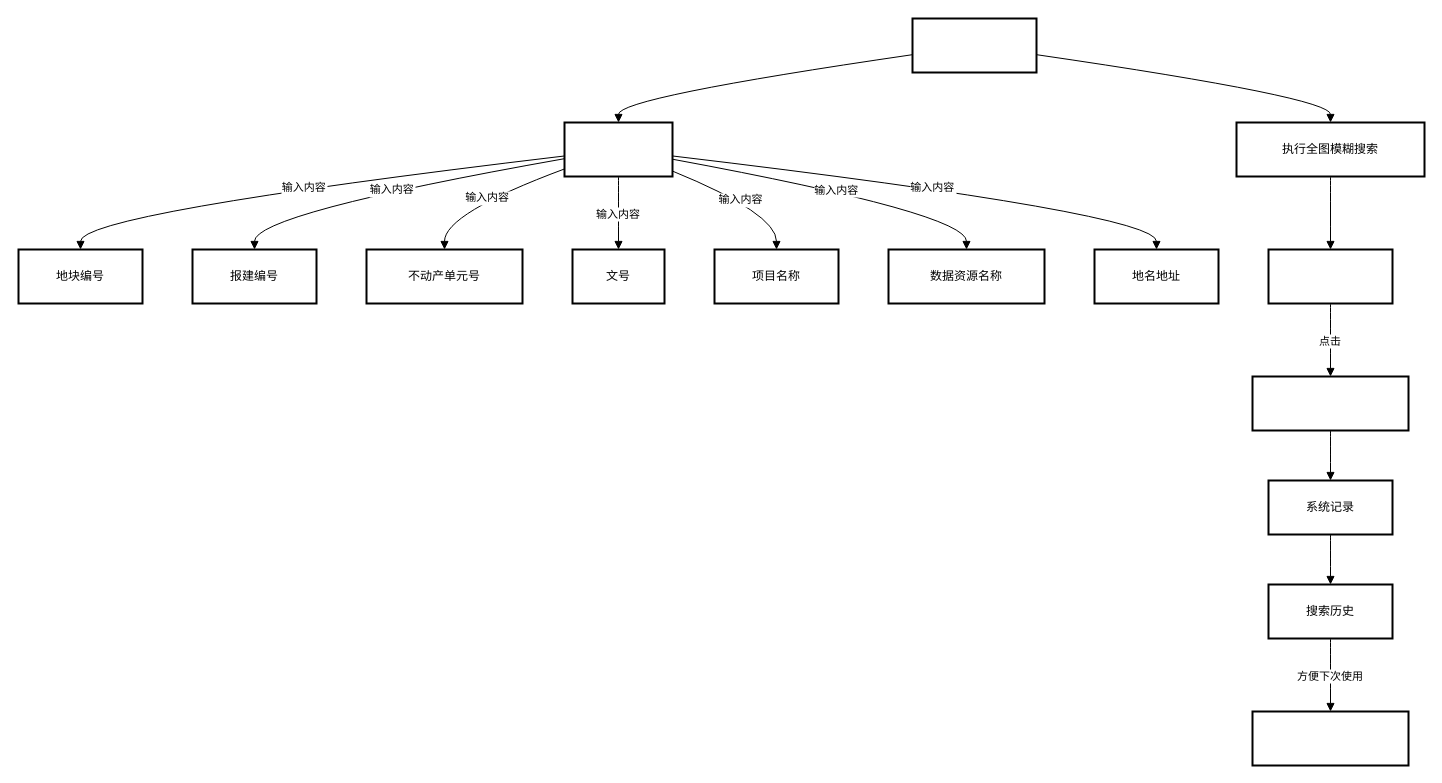
Some shapes in this 1442 by 783 pixel diagram are drawn without their labels. Each missing label, with the centre of its shape:
"搜索框" goes at point 618,149.
"搜索结果" goes at point 1330,276.
"用户输入" goes at point 974,45.
"用户重新搜索" goes at point 1330,738.
"进行空间定位" goes at point 1330,403.
